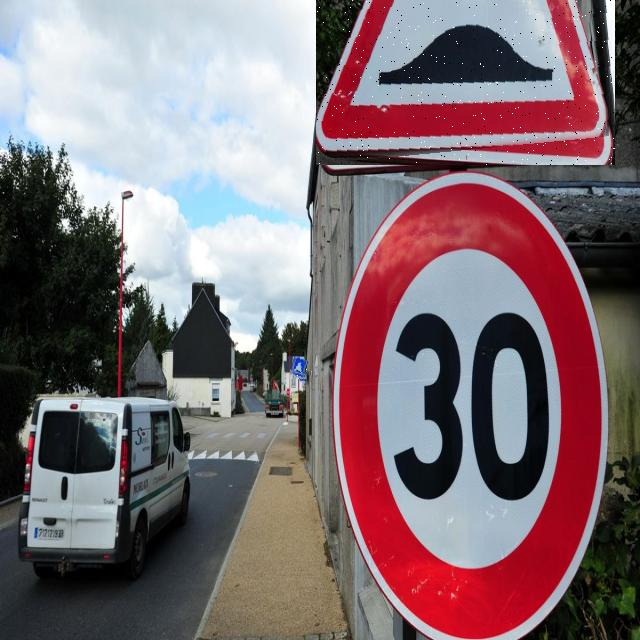hump: (316, 0, 615, 165), (290, 357, 307, 379)
